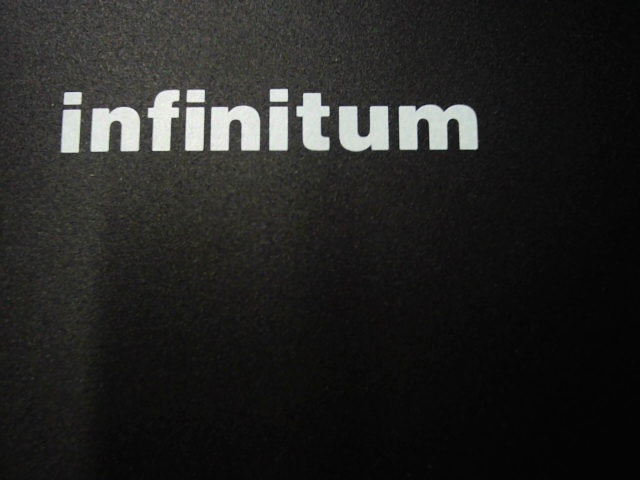BK_infinitum: (54, 70, 488, 174)
